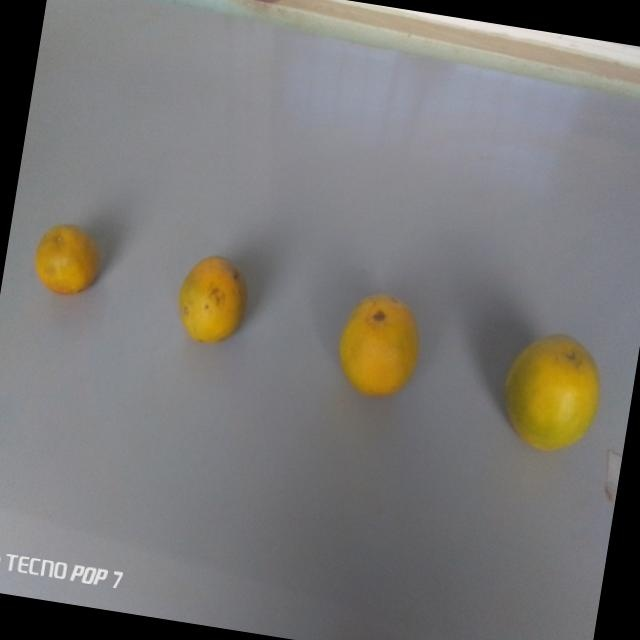agrume: (497, 304, 615, 457), (331, 275, 429, 405), (169, 243, 258, 353), (29, 214, 105, 312)
